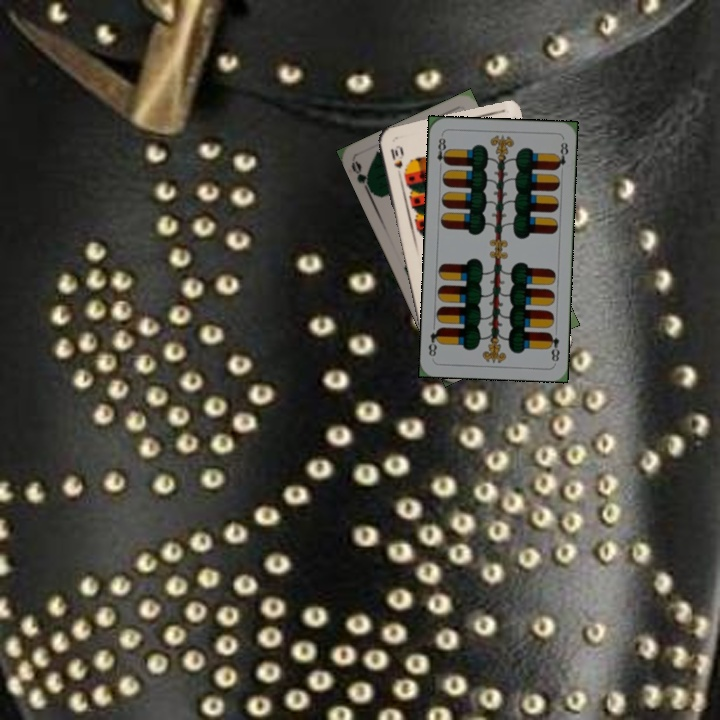E8: (433, 132, 450, 172), (544, 329, 562, 364)
GO: (347, 157, 376, 197)
S10: (386, 142, 405, 181)
